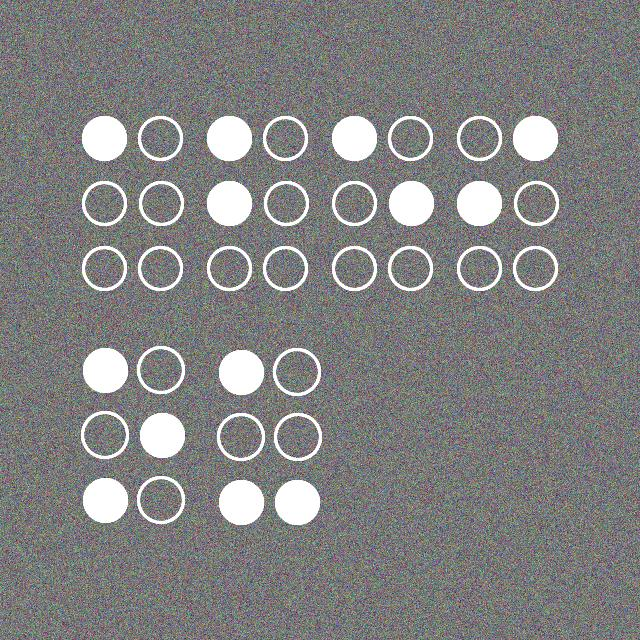A: (78, 109, 186, 295)
B: (206, 110, 313, 295)
E: (326, 112, 437, 298)
I: (452, 109, 565, 301)
O: (78, 342, 190, 532)
U: (216, 343, 327, 533)
